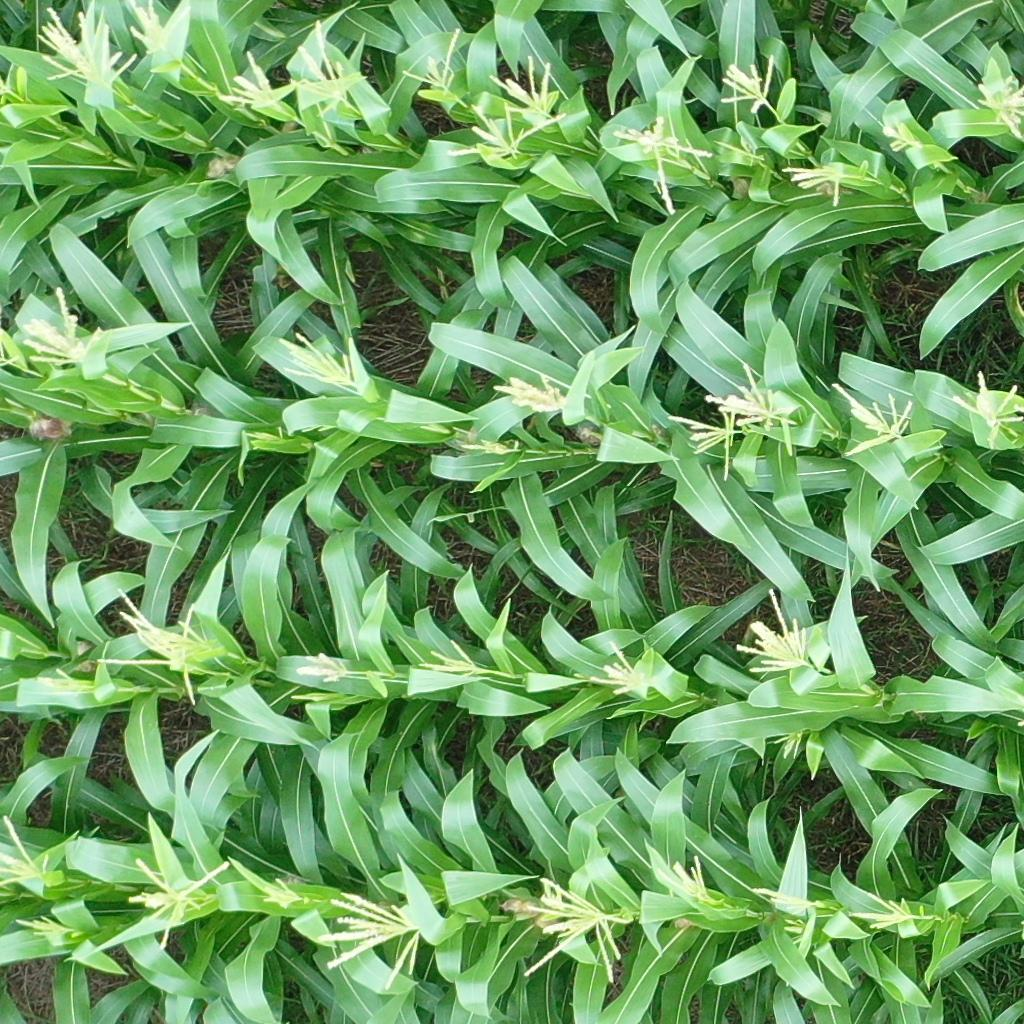Tassel: (93, 587, 220, 701), (518, 874, 631, 982), (609, 105, 716, 214), (121, 848, 231, 948), (319, 888, 423, 990), (38, 3, 135, 91), (443, 100, 568, 162), (14, 284, 103, 371), (827, 376, 917, 459), (732, 585, 813, 676), (700, 361, 792, 432), (291, 13, 355, 115), (949, 372, 1024, 452), (278, 327, 367, 392), (212, 43, 291, 115), (670, 401, 744, 475), (584, 636, 660, 703), (488, 50, 561, 119), (485, 363, 569, 419), (400, 23, 463, 90), (1, 816, 58, 888), (974, 63, 1024, 140), (717, 51, 779, 113), (658, 851, 722, 909), (775, 155, 850, 204), (120, 1, 184, 56), (420, 635, 483, 688), (848, 886, 917, 932), (751, 883, 833, 917), (454, 426, 523, 461), (35, 662, 91, 703), (251, 870, 309, 908), (10, 913, 77, 942), (298, 648, 348, 686), (878, 116, 920, 157), (770, 720, 807, 765), (243, 422, 285, 450), (785, 919, 806, 946)
